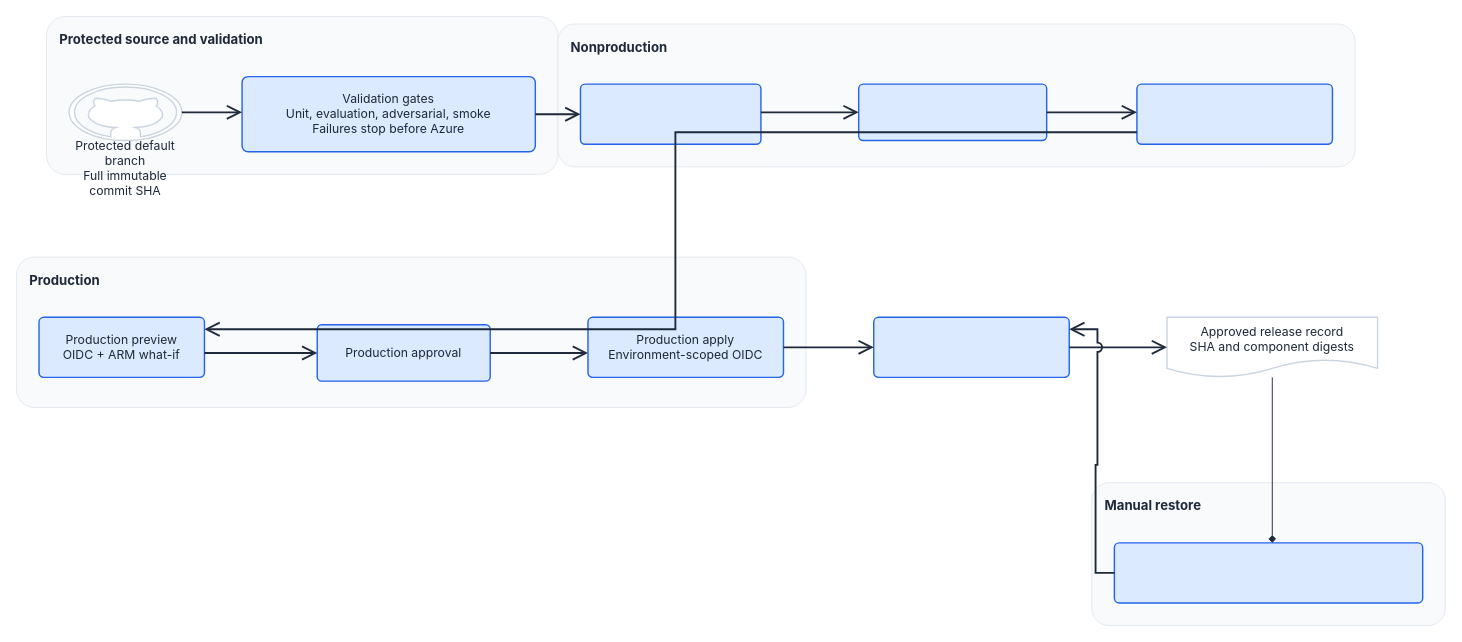
This 1462x642 diagram has some shape labels left out. The shapes that lost their labels are listed below. From the top down, each one's centre as x and y in pixels, then its label:
At (x=670, y=114): "Nonproduction preview OIDC + ARM what-if".
At (x=952, y=112): "Nonproduction approval".
At (x=1234, y=114): "Nonproduction apply Environment-scoped OIDC".
At (x=971, y=347): "API Management selector Move approved route".
At (x=1268, y=572): "Manual restore Approved record, preview, and approval".
